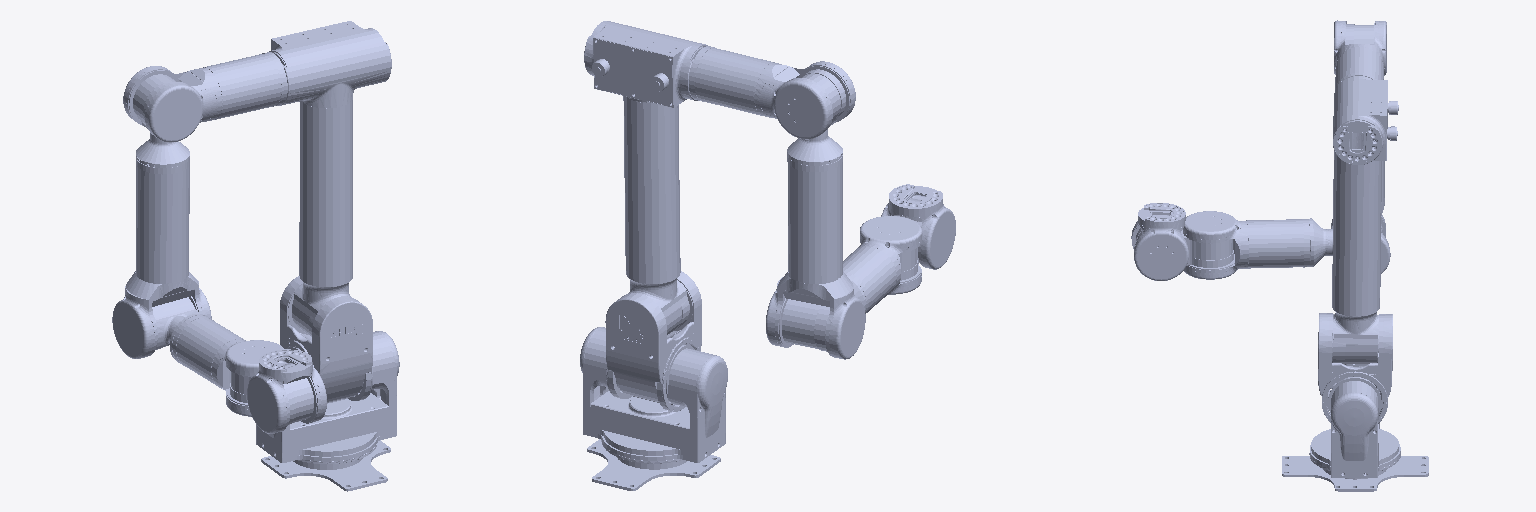
robot.urdf — mk2_arm_description:
<robot
  name="mk2_arm_description">
  <link
    name="gimbal_base_link">
    <inertial>
      <origin
        xyz="-0.000311245853605482 0.000184028061416046 0.0110303559280557"
        rpy="0 0 0" />
      <mass
        value="0.130487655760344" />
      <inertia
        ixx="0.000320493942072279"
        ixy="1.28321175626754E-06"
        ixz="3.14521016025978E-07"
        iyy="0.000205865272154098"
        iyz="-1.95212944651931E-07"
        izz="0.000494477771891756" />
    </inertial>
    <visual>
      <origin
        xyz="0 0 0"
        rpy="0 0 0" />
      <geometry>
        <mesh
          filename="package://mk2_arm_description/meshes/gimbal_base_link.STL" />
      </geometry>
      <material
        name="">
        <color
          rgba="0.792156862745098 0.819607843137255 0.933333333333333 1" />
      </material>
    </visual>
    <collision>
      <origin
        xyz="0 0 0"
        rpy="0 0 0" />
      <geometry>
        <mesh
          filename="package://mk2_arm_description/meshes/gimbal_base_link.STL" />
      </geometry>
    </collision>
  </link>
  <link
    name="gimbal_yaw_link">
    <inertial>
      <origin
        xyz="-1.06658591550189E-08 0.0521988822676796 2.53295709174067E-09"
        rpy="0 0 0" />
      <mass
        value="0.312439408831626" />
      <inertia
        ixx="0.000737785386256232"
        ixy="5.40554054117916E-11"
        ixz="2.25109857523386E-10"
        iyy="0.0015522503974774"
        iyz="-1.81028783905346E-11"
        izz="0.00179835096991255" />
    </inertial>
    <visual>
      <origin
        xyz="0 0 0"
        rpy="0 0 0" />
      <geometry>
        <mesh
          filename="package://mk2_arm_description/meshes/gimbal_yaw_link.STL" />
      </geometry>
      <material
        name="">
        <color
          rgba="0.792156862745098 0.819607843137255 0.933333333333333 1" />
      </material>
    </visual>
    <collision>
      <origin
        xyz="0 0 0"
        rpy="0 0 0" />
      <geometry>
        <mesh
          filename="package://mk2_arm_description/meshes/gimbal_yaw_link.STL" />
      </geometry>
    </collision>
  </link>
  <joint
    name="gimbal_yaw_joint"
    type="continuous">
    <origin
      xyz="0 0 0.0207"
      rpy="1.5707963267949 -7.62441236410402E-19 -0.0124523433757913" />
    <parent
      link="gimbal_base_link" />
    <child
      link="gimbal_yaw_link" />
    <axis
      xyz="0 -1 0" />
  </joint>
  <link
    name="gimbal_pitch_link">
    <inertial>
      <origin
        xyz="3.70819773368937E-07 0.0385336079152639 -0.00216821658592113"
        rpy="0 0 0" />
      <mass
        value="0.214939205113631" />
      <inertia
        ixx="0.000647224212222893"
        ixy="4.13731189134004E-09"
        ixz="3.35132670402338E-09"
        iyy="0.000481992834339445"
        iyz="-2.12337478633823E-05"
        izz="0.00050820389492813" />
    </inertial>
    <visual>
      <origin
        xyz="0 0 0"
        rpy="0 0 0" />
      <geometry>
        <mesh
          filename="package://mk2_arm_description/meshes/gimbal_pitch_link.STL" />
      </geometry>
      <material
        name="">
        <color
          rgba="0.792156862745098 0.819607843137255 0.933333333333333 1" />
      </material>
    </visual>
    <collision>
      <origin
        xyz="0 0 0"
        rpy="0 0 0" />
      <geometry>
        <mesh
          filename="package://mk2_arm_description/meshes/gimbal_pitch_link.STL" />
      </geometry>
    </collision>
  </link>
  <joint
    name="gimbal_pitch_joint"
    type="continuous">
    <origin
      xyz="0 0.1065 0"
      rpy="-0.0107280632545701 -2.08166817117217E-17 0" />
    <parent
      link="gimbal_yaw_link" />
    <child
      link="gimbal_pitch_link" />
    <axis
      xyz="-1 0 0" />
  </joint>
  <link
    name="gimbal_roll_link">
    <inertial>
      <origin
        xyz="7.23938379811571E-08 0.233960345311387 -0.00500671736741672"
        rpy="0 0 0" />
      <mass
        value="0.293335680694463" />
      <inertia
        ixx="0.00578530743048782"
        ixy="-7.19346980738454E-10"
        ixz="-1.76016068160304E-08"
        iyy="0.000677304095565248"
        iyz="-0.000219288884775163"
        izz="0.00606444113867197" />
    </inertial>
    <visual>
      <origin
        xyz="0 0 0"
        rpy="0 0 0" />
      <geometry>
        <mesh
          filename="package://mk2_arm_description/meshes/gimbal_roll_link.STL" />
      </geometry>
      <material
        name="">
        <color
          rgba="0.792156862745098 0.819607843137255 0.933333333333333 1" />
      </material>
    </visual>
    <collision>
      <origin
        xyz="0 0 0"
        rpy="0 0 0" />
      <geometry>
        <mesh
          filename="package://mk2_arm_description/meshes/gimbal_roll_link.STL" />
      </geometry>
    </collision>
  </link>
  <joint
    name="gimbal_roll_joint"
    type="continuous">
    <origin
      xyz="0 0.08 0"
      rpy="3.29597460435593E-17 5.89805981832114E-17 -0.00720353270271086" />
    <parent
      link="gimbal_pitch_link" />
    <child
      link="gimbal_roll_link" />
    <axis
      xyz="0 0 -1" />
  </joint>
  <link
    name="right_shoulder_pitch_link">
    <inertial>
      <origin
        xyz="-0.000945706118405325 -5.75486716374307E-05 -0.110982391002059"
        rpy="0 0 0" />
      <mass
        value="0.163443860246244" />
      <inertia
        ixx="0.000541019079282424"
        ixy="-1.61490628397893E-08"
        ixz="9.49763154684831E-06"
        iyy="0.000559986144944629"
        iyz="1.83976331279934E-07"
        izz="0.000176694491571909" />
    </inertial>
    <visual>
      <origin
        xyz="0 0 0"
        rpy="0 0 0" />
      <geometry>
        <mesh
          filename="package://mk2_arm_description/meshes/right_shoulder_pitch_link.STL" />
      </geometry>
      <material
        name="">
        <color
          rgba="0.792156862745098 0.819607843137255 0.933333333333333 1" />
      </material>
    </visual>
    <collision>
      <origin
        xyz="0 0 0"
        rpy="0 0 0" />
      <geometry>
        <mesh
          filename="package://mk2_arm_description/meshes/right_shoulder_pitch_link.STL" />
      </geometry>
    </collision>
  </link>
  <joint
    name="right_shoulder_pitch_joint"
    type="continuous">
    <origin
      xyz="-0.0745159451359152 0.36378233047 0"
      rpy="-1.57079632679484 -1.5588414942257 -1.57079632679496" />
    <parent
      link="gimbal_roll_link" />
    <child
      link="right_shoulder_pitch_link" />
    <axis
      xyz="0 0 -1" />
  </joint>
  <link
    name="right_shoulder_roll_link">
    <inertial>
      <origin
        xyz="-0.000393324019572594 -0.0428351305595071 -0.00178233712056754"
        rpy="0 0 0" />
      <mass
        value="0.0635014044087843" />
      <inertia
        ixx="9.22926698498334E-05"
        ixy="7.99971727171826E-07"
        ixz="-4.48582641839747E-08"
        iyy="4.6466615979634E-05"
        iyz="-5.63299392822718E-06"
        izz="9.49758803930228E-05" />
    </inertial>
    <visual>
      <origin
        xyz="0 0 0"
        rpy="0 0 0" />
      <geometry>
        <mesh
          filename="package://mk2_arm_description/meshes/right_shoulder_roll_link.STL" />
      </geometry>
      <material
        name="">
        <color
          rgba="0.792156862745098 0.819607843137255 0.933333333333333 1" />
      </material>
    </visual>
    <collision>
      <origin
        xyz="0 0 0"
        rpy="0 0 0" />
      <geometry>
        <mesh
          filename="package://mk2_arm_description/meshes/right_shoulder_roll_link.STL" />
      </geometry>
    </collision>
  </link>
  <joint
    name="right_shoulder_roll_joint"
    type="continuous">
    <origin
      xyz="0 0 -0.175004054864085"
      rpy="-1.57079632679511 1.5680965801137 1.57079632679469" />
    <parent
      link="right_shoulder_pitch_link" />
    <child
      link="right_shoulder_roll_link" />
    <axis
      xyz="0 0 1" />
  </joint>
  <link
    name="right_shoulder_yaw_link">
    <inertial>
      <origin
        xyz="-1.67616213951616E-06 0.00238859068134961 -0.167297239579258"
        rpy="0 0 0" />
      <mass
        value="0.234264205484046" />
      <inertia
        ixx="0.00139590435682122"
        ixy="8.43236762309945E-10"
        ixz="-3.24330725215419E-08"
        iyy="0.00128382870231813"
        iyz="-4.30078442113598E-05"
        izz="0.000332546471149826" />
    </inertial>
    <visual>
      <origin
        xyz="0 0 0"
        rpy="0 0 0" />
      <geometry>
        <mesh
          filename="package://mk2_arm_description/meshes/right_shoulder_yaw_link.STL" />
      </geometry>
      <material
        name="">
        <color
          rgba="0.792156862745098 0.819607843137255 0.933333333333333 1" />
      </material>
    </visual>
    <collision>
      <origin
        xyz="0 0 0"
        rpy="0 0 0" />
      <geometry>
        <mesh
          filename="package://mk2_arm_description/meshes/right_shoulder_yaw_link.STL" />
      </geometry>
    </collision>
  </link>
  <joint
    name="right_shoulder_yaw_joint"
    type="continuous">
    <origin
      xyz="0 -0.0728206486484171 0"
      rpy="1.57079632679491 1.48659895798722 -3.14159265358978" />
    <parent
      link="right_shoulder_roll_link" />
    <child
      link="right_shoulder_yaw_link" />
    <axis
      xyz="0 0 -1" />
  </joint>
  <link
    name="right_elbow_pitch_link">
    <inertial>
      <origin
        xyz="-0.000360441218538843 -0.0408954080915278 -0.00105767029717724"
        rpy="0 0 0" />
      <mass
        value="0.0687829617534891" />
      <inertia
        ixx="0.000106324774780084"
        ixy="8.44268708077868E-07"
        ixz="-2.61080861900977E-08"
        iyy="5.76141027005737E-05"
        iyz="-2.77922824965849E-06"
        izz="0.000105076946548717" />
    </inertial>
    <visual>
      <origin
        xyz="0 0 0"
        rpy="0 0 0" />
      <geometry>
        <mesh
          filename="package://mk2_arm_description/meshes/right_elbow_pitch_link.STL" />
      </geometry>
      <material
        name="">
        <color
          rgba="0.792156862745098 0.819607843137255 0.933333333333333 1" />
      </material>
    </visual>
    <collision>
      <origin
        xyz="0 0 0"
        rpy="0 0 0" />
      <geometry>
        <mesh
          filename="package://mk2_arm_description/meshes/right_elbow_pitch_link.STL" />
      </geometry>
    </collision>
  </link>
  <joint
    name="right_elbow_pitch_joint"
    type="continuous">
    <origin
      xyz="0 0 -0.245154351351583"
      rpy="-1.57079632679542 1.56342870700628 -5.24290930743869E-13" />
    <parent
      link="right_shoulder_yaw_link" />
    <child
      link="right_elbow_pitch_link" />
    <axis
      xyz="0 0 -1" />
  </joint>
  <link
    name="right_wrist_yaw_link">
    <inertial>
      <origin
        xyz="-4.53528605760534E-05 -0.00132925979523785 -0.0718241309377226"
        rpy="0 0 0" />
      <mass
        value="0.143237868926312" />
      <inertia
        ixx="0.000406963750992933"
        ixy="2.74981450426412E-07"
        ixz="1.16641021689584E-07"
        iyy="0.000390512044832333"
        iyz="8.98707830084602E-06"
        izz="0.000156663380096342" />
    </inertial>
    <visual>
      <origin
        xyz="0 0 0"
        rpy="0 0 0" />
      <geometry>
        <mesh
          filename="package://mk2_arm_description/meshes/right_wrist_yaw_link.STL" />
      </geometry>
      <material
        name="">
        <color
          rgba="0.792156862745098 0.819607843137255 0.933333333333333 1" />
      </material>
    </visual>
    <collision>
      <origin
        xyz="0 0 0"
        rpy="0 0 0" />
      <geometry>
        <mesh
          filename="package://mk2_arm_description/meshes/right_wrist_yaw_link.STL" />
      </geometry>
    </collision>
  </link>
  <joint
    name="right_wrist_yaw_joint"
    type="fixed">
    <origin
      xyz="0 -0.0999700000000001 0"
      rpy="3.11921549796857 -1.57079631189374 1.59181711218594" />
    <parent
      link="right_elbow_pitch_link" />
    <child
      link="right_wrist_yaw_link" />
    <axis
      xyz="0 0 0" />
  </joint>
  <link
    name="right_wrist_roll_link">
    <inertial>
      <origin
        xyz="-0.000408944780249498 -0.0370500000683084 -0.000408944786089438"
        rpy="0 0 0" />
      <mass
        value="0.0439051251849919" />
      <inertia
        ixx="7.67509583103477E-05"
        ixy="1.01266459168484E-06"
        ixz="-7.34251158671977E-09"
        iyy="3.22048578541173E-05"
        iyz="-1.0126645318785E-06"
        izz="7.67509583337084E-05" />
    </inertial>
    <visual>
      <origin
        xyz="0 0 0"
        rpy="0 0 0" />
      <geometry>
        <mesh
          filename="package://mk2_arm_description/meshes/right_wrist_roll_link.STL" />
      </geometry>
      <material
        name="">
        <color
          rgba="0.792156862745098 0.819607843137255 0.933333333333333 1" />
      </material>
    </visual>
    <collision>
      <origin
        xyz="0 0 0"
        rpy="0 0 0" />
      <geometry>
        <mesh
          filename="package://mk2_arm_description/meshes/right_wrist_roll_link.STL" />
      </geometry>
    </collision>
  </link>
  <joint
    name="right_wrist_roll_joint"
    type="continuous">
    <origin
      xyz="0 0 -0.124475"
      rpy="1.5707963267949 0.0155767413507828 -0.0165465548293445" />
    <parent
      link="right_wrist_yaw_link" />
    <child
      link="right_wrist_roll_link" />
    <axis
      xyz="0 0 -1" />
  </joint>
  <link
    name="right_wrist_pitch_link">
    <inertial>
      <origin
        xyz="0.00215013276269063 -0.021967554708106 0.000617940614467904"
        rpy="0 0 0" />
      <mass
        value="0.0825624334173131" />
      <inertia
        ixx="0.000108263418216049"
        ixy="3.36877166704712E-06"
        ixz="-1.09628848549562E-07"
        iyy="9.54648193127676E-05"
        iyz="-1.58400230428205E-06"
        izz="0.000125428185859027" />
    </inertial>
    <visual>
      <origin
        xyz="0 0 0"
        rpy="0 0 0" />
      <geometry>
        <mesh
          filename="package://mk2_arm_description/meshes/right_wrist_pitch_link.STL" />
      </geometry>
      <material
        name="">
        <color
          rgba="0.792156862745098 0.819607843137255 0.933333333333333 1" />
      </material>
    </visual>
    <collision>
      <origin
        xyz="0 0 0"
        rpy="0 0 0" />
      <geometry>
        <mesh
          filename="package://mk2_arm_description/meshes/right_wrist_pitch_link.STL" />
      </geometry>
    </collision>
  </link>
  <joint
    name="right_wrist_pitch_joint"
    type="continuous">
    <origin
      xyz="0 -0.0740999999999999 0"
      rpy="-1.61133676385665 -1.16985414411186E-16 -8.95117313604032E-16" />
    <parent
      link="right_wrist_roll_link" />
    <child
      link="right_wrist_pitch_link" />
    <axis
      xyz="-1 0 0" />
  </joint>
</robot>

--- Render facts (derived) ---
Views: 3 orthographic renders of the robot side by side, from view 1: azimuth 30°, elevation 25°; view 2: azimuth 150°, elevation 25°; view 3: azimuth 270°, elevation 25°.
Robot: mk2_arm_description — 11 links, 10 joints (9 continuous, 1 fixed); root link gimbal_base_link; default pose: all joints at 0.
Visible links, largest first — view 1: gimbal_roll_link, right_shoulder_yaw_link, right_shoulder_pitch_link, gimbal_yaw_link, gimbal_pitch_link, right_wrist_yaw_link, right_wrist_pitch_link, gimbal_base_link, right_shoulder_roll_link, right_wrist_roll_link, right_elbow_pitch_link; view 2: gimbal_roll_link, gimbal_yaw_link, right_shoulder_yaw_link, right_shoulder_pitch_link, gimbal_pitch_link, right_wrist_yaw_link, right_wrist_pitch_link, gimbal_base_link, right_shoulder_roll_link, right_elbow_pitch_link, right_wrist_roll_link; view 3: gimbal_roll_link, gimbal_yaw_link, right_wrist_yaw_link, right_wrist_pitch_link, gimbal_pitch_link, right_shoulder_pitch_link, gimbal_base_link, right_wrist_roll_link, right_elbow_pitch_link, right_shoulder_roll_link.
Boxes of the visible links, <box> form: gimbal_roll_link: <box>269,21,391,336</box>; right_shoulder_yaw_link: <box>112,159,211,358</box>; right_shoulder_pitch_link: <box>123,52,287,142</box>; gimbal_yaw_link: <box>256,331,399,463</box>; gimbal_pitch_link: <box>280,276,372,403</box>; right_wrist_yaw_link: <box>172,315,284,416</box>; right_wrist_pitch_link: <box>247,349,326,433</box>; gimbal_base_link: <box>261,440,390,491</box>; right_shoulder_roll_link: <box>129,70,189,167</box>; right_wrist_roll_link: <box>227,371,317,424</box>; right_elbow_pitch_link: <box>152,296,207,362</box>; gimbal_roll_link: <box>584,21,707,334</box>; gimbal_yaw_link: <box>580,327,727,463</box>; right_shoulder_yaw_link: <box>766,155,865,359</box>; right_shoulder_pitch_link: <box>689,46,855,139</box>; gimbal_pitch_link: <box>605,271,701,411</box>; right_wrist_yaw_link: <box>843,216,921,313</box>; right_wrist_pitch_link: <box>881,184,955,269</box>; gimbal_base_link: <box>587,439,720,490</box>; right_shoulder_roll_link: <box>787,66,849,165</box>; right_elbow_pitch_link: <box>779,276,866,351</box>; right_wrist_roll_link: <box>898,221,921,282</box>; gimbal_roll_link: <box>1332,76,1398,364</box>; gimbal_yaw_link: <box>1309,377,1400,477</box>; right_wrist_yaw_link: <box>1183,211,1309,279</box>; right_wrist_pitch_link: <box>1131,203,1188,280</box>; gimbal_pitch_link: <box>1318,313,1392,423</box>; right_shoulder_pitch_link: <box>1334,20,1386,89</box>; gimbal_base_link: <box>1282,456,1428,491</box>; right_wrist_roll_link: <box>1133,225,1234,269</box>; right_elbow_pitch_link: <box>1309,218,1385,266</box>; right_shoulder_roll_link: <box>1345,21,1375,44</box>.
Bounding box of the posed robot: 0.4012 × 0.4415 × 0.6138 m (x, y, z).
Meshes: 11 distinct files referenced, 11 mesh visuals loaded (11 binary STL).